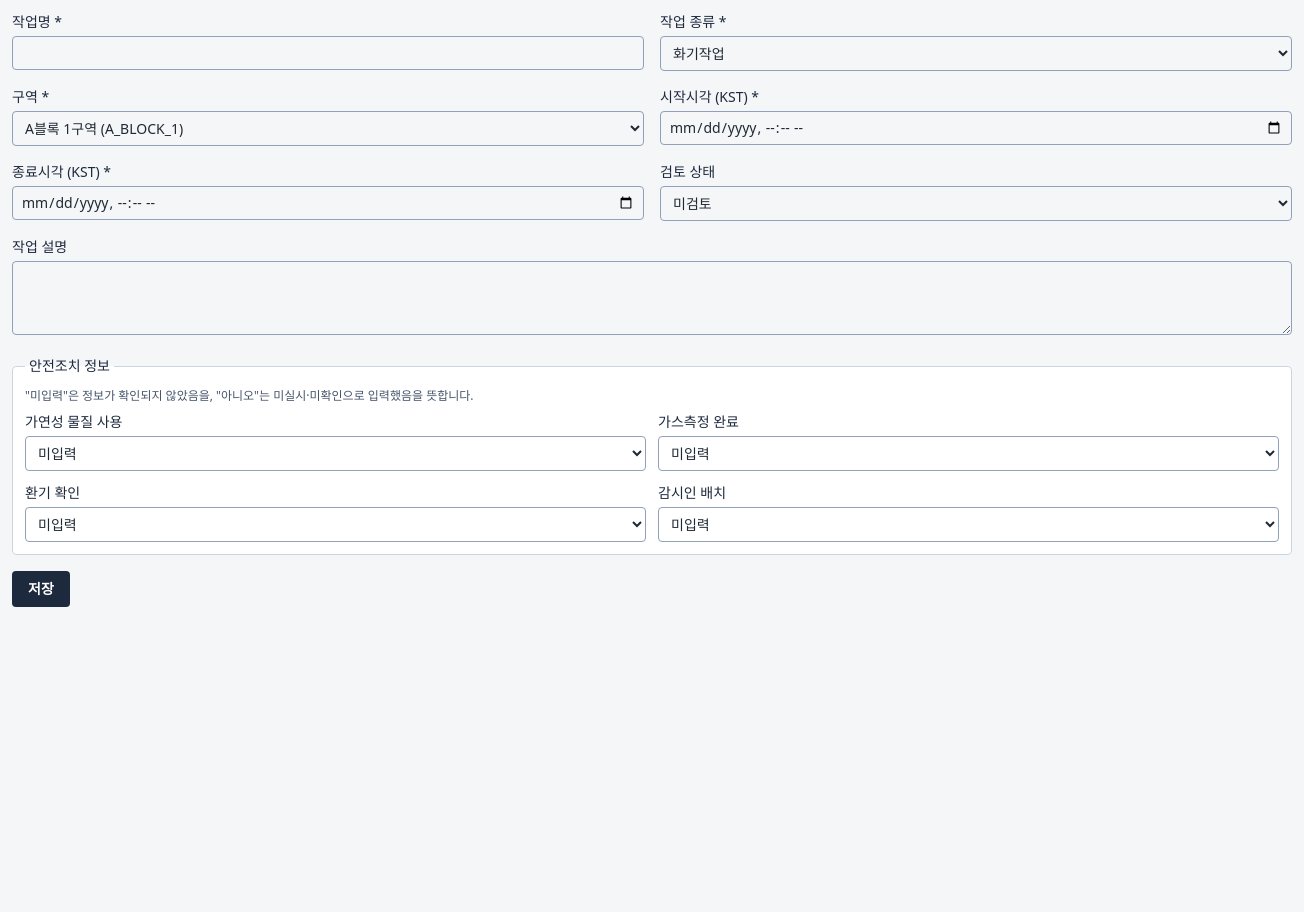
Test: 작업 직접 등록 폼 › 서버 오류 메시지와 오류 코드를 표시한다
Type "중복 작업" into the field labelled "작업명 *".
click(328, 53); type("중복 작업")  # box [12,36,644,70]
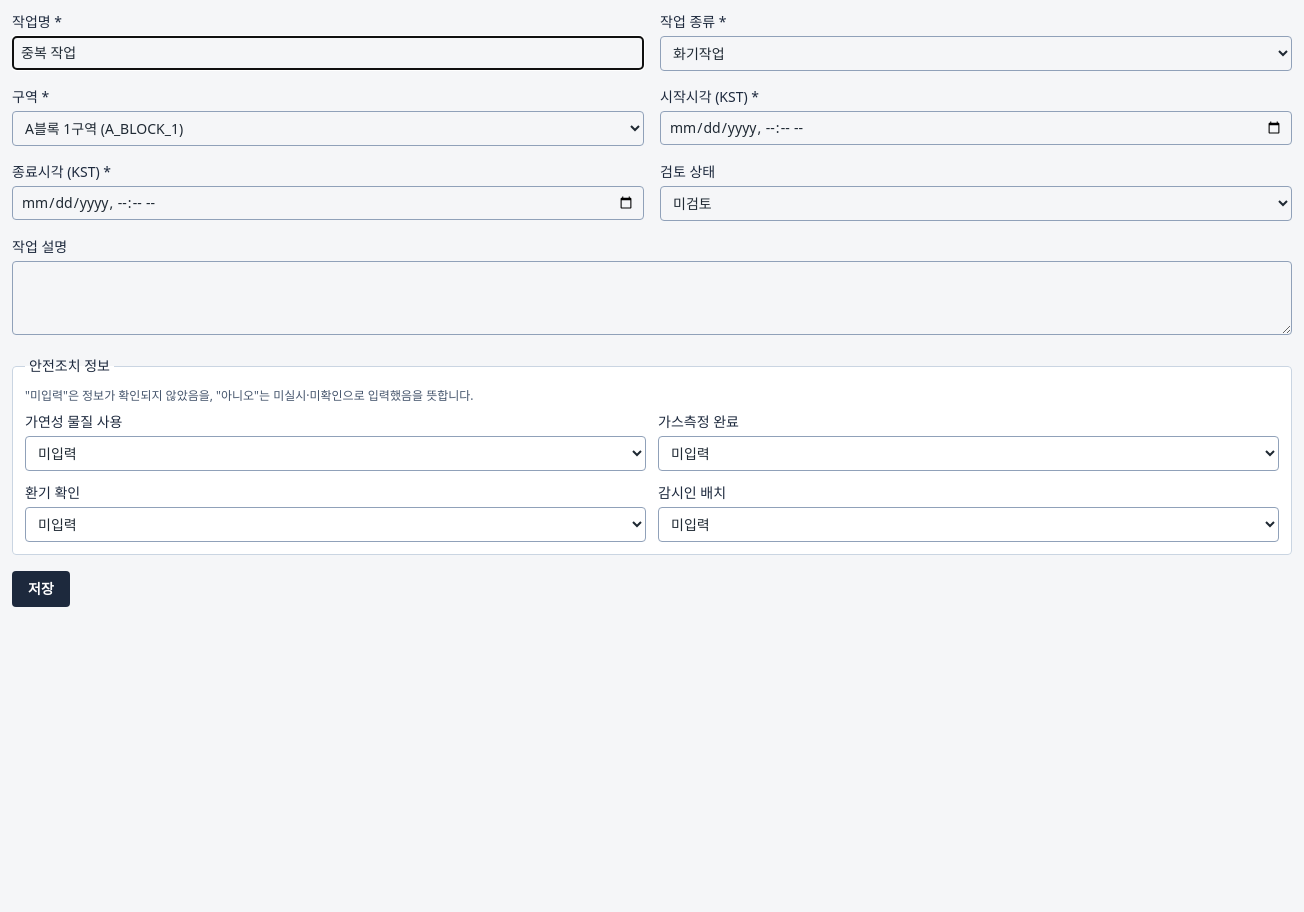
Type "2026-03-16T09:00" into the field labelled "시작시각 (KST) *".
click(976, 128); type("2026-03-16T09:00")  # box [660,111,1292,145]
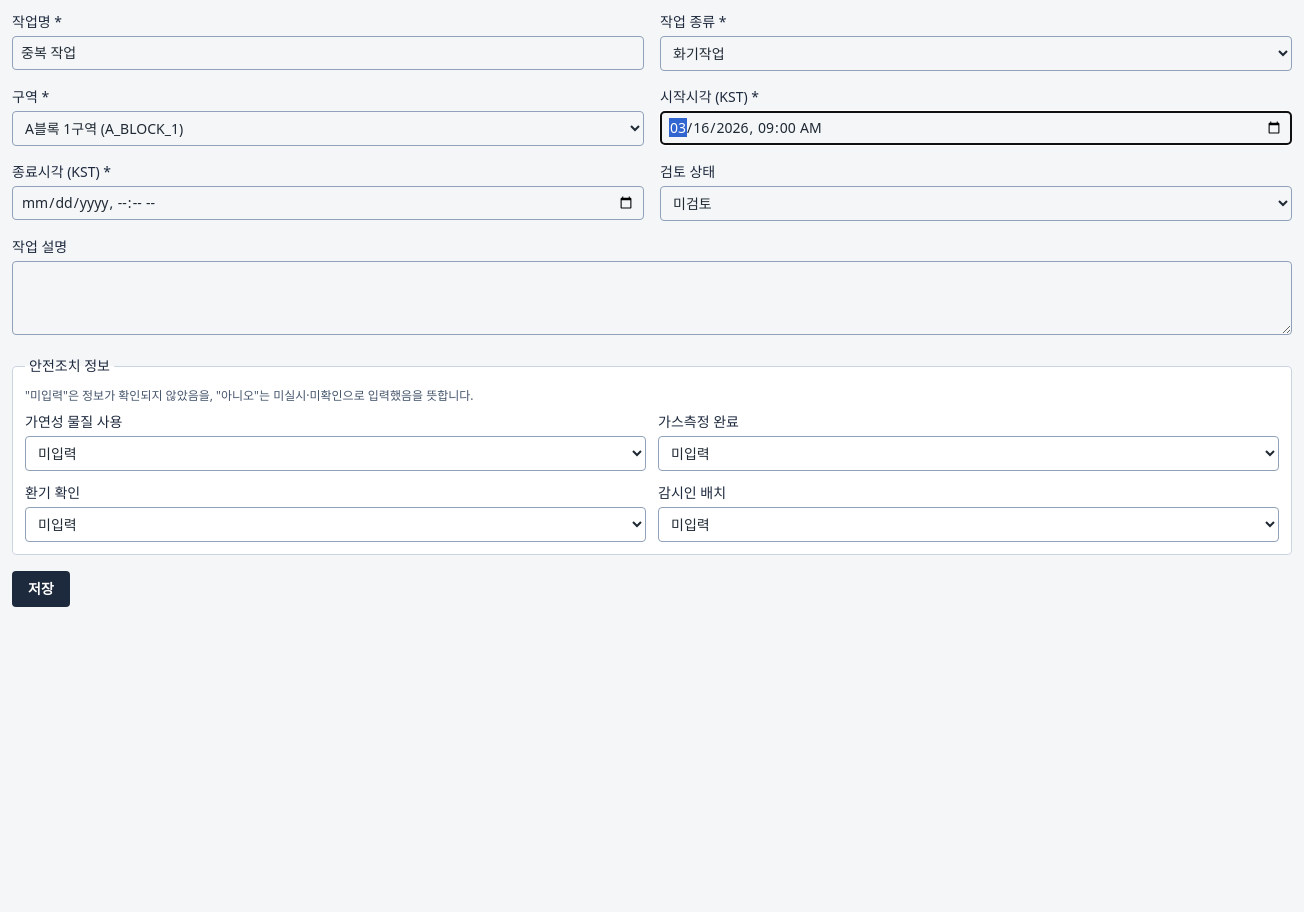
Type "2026-03-16T12:00" into the field labelled "종료시각 (KST) *".
click(328, 203); type("2026-03-16T12:00")  # box [12,186,644,220]
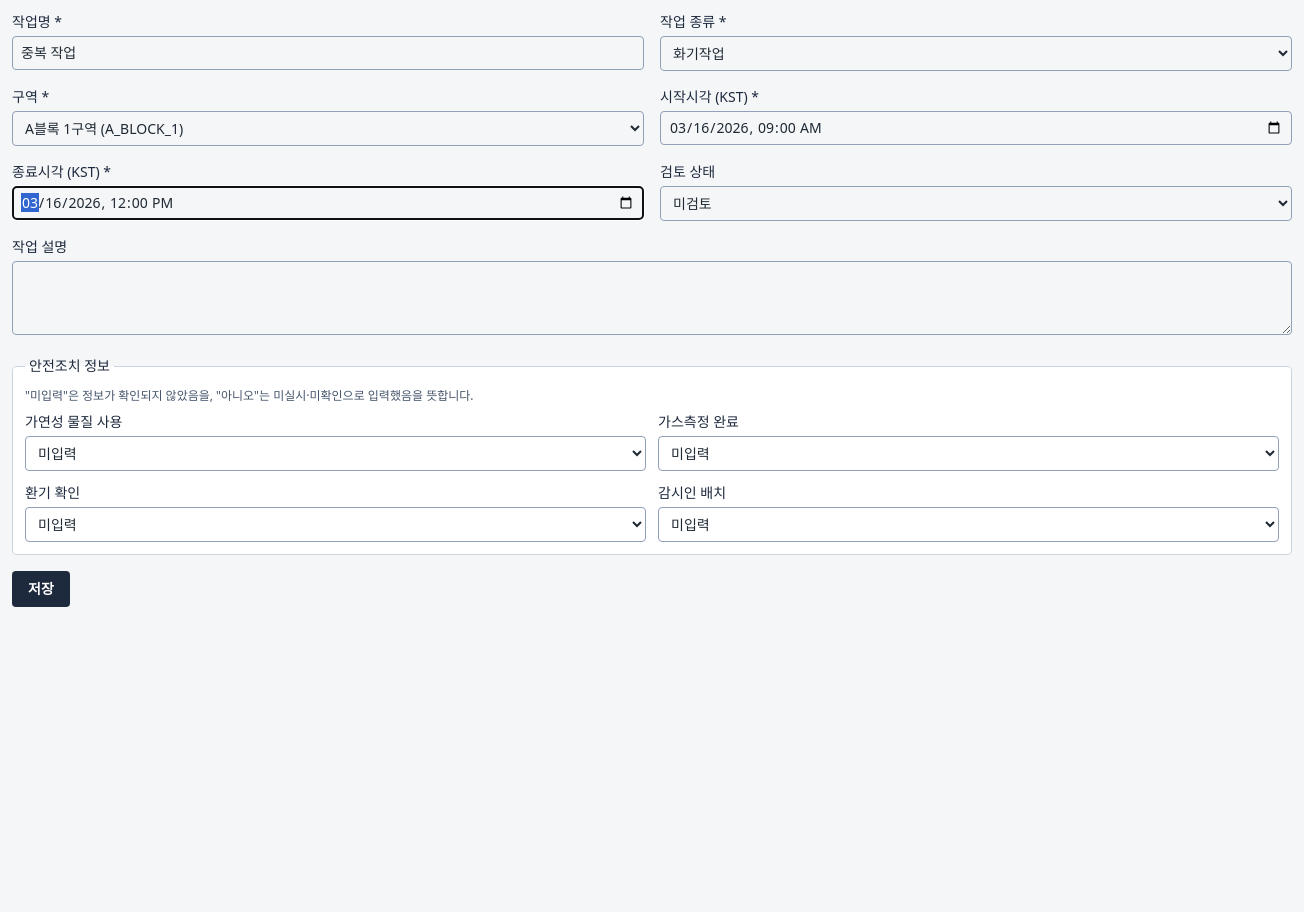
Click the button "저장".
click(41, 589)  # box [12,571,70,607]
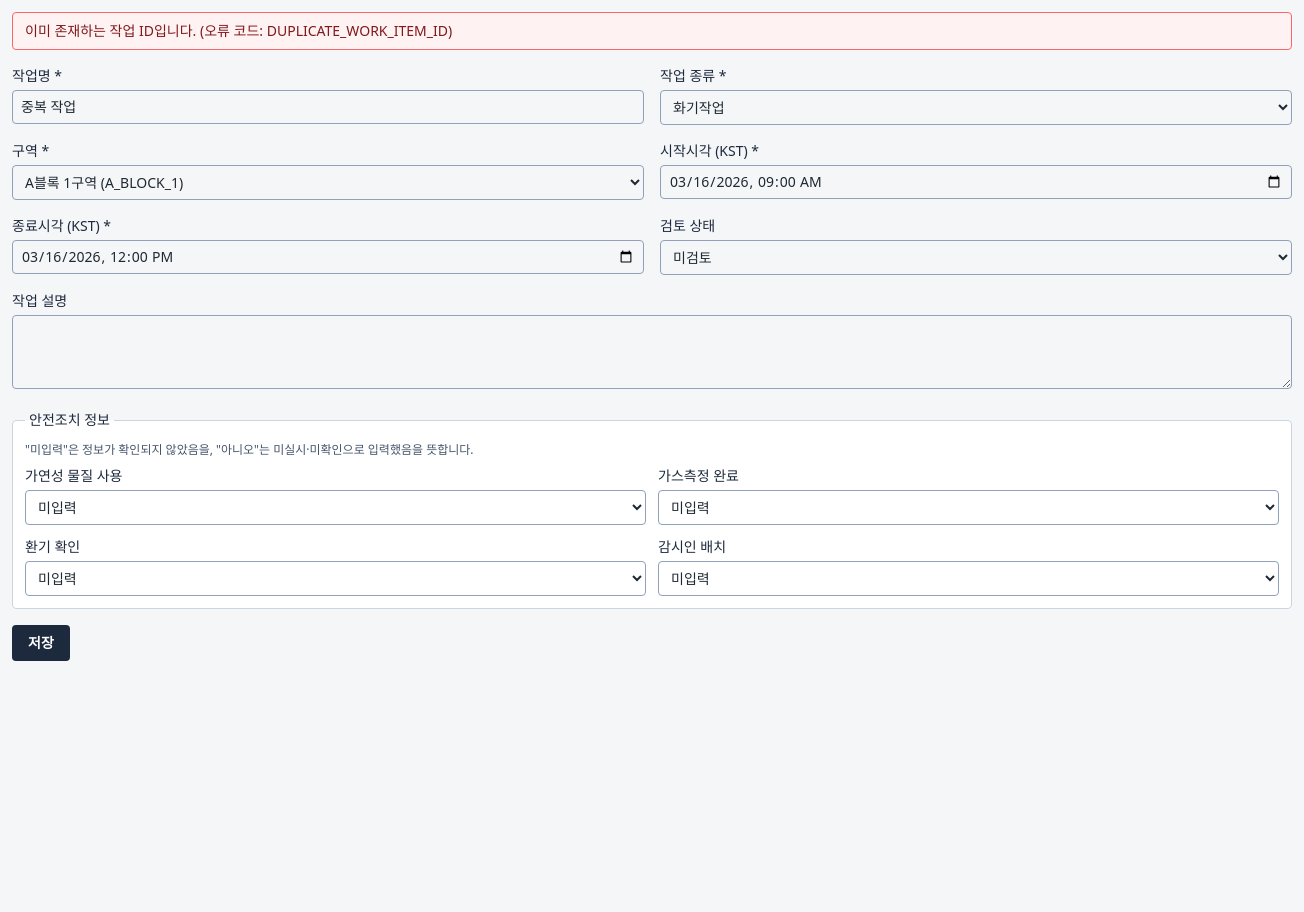
Expected: the message shows "이미 존재하는 작업 ID입니다.", [25,21,452,40]
Expected: the message shows "DUPLICATE_WORK_ITEM_ID", [25,21,452,40]
